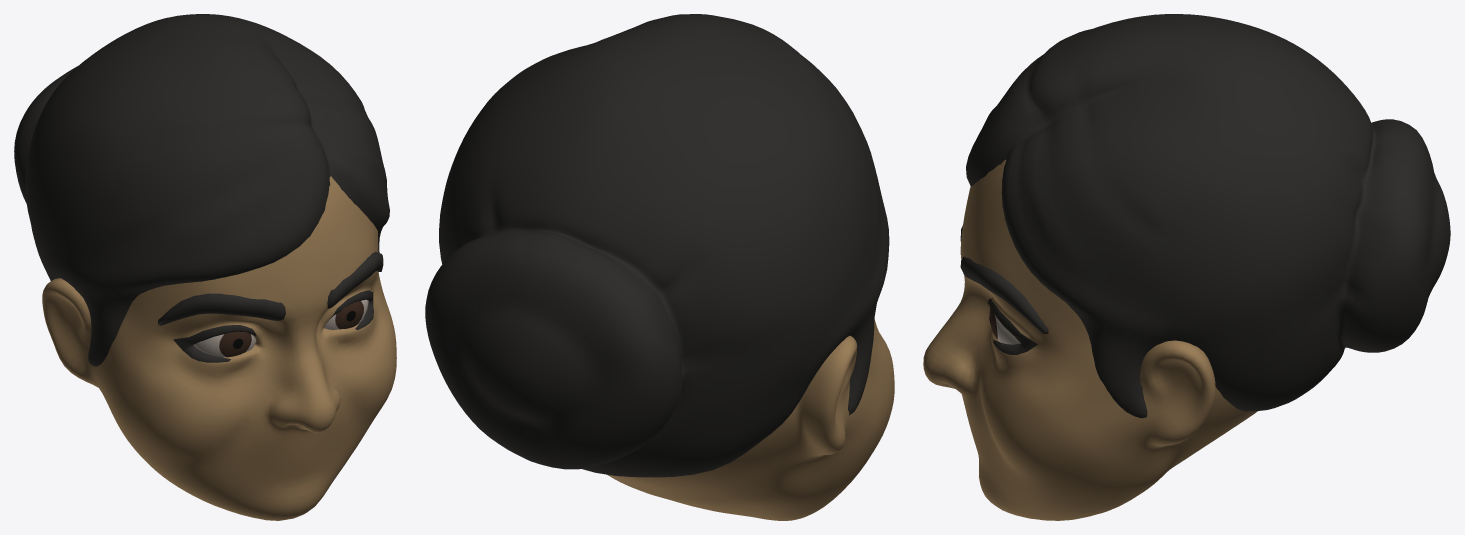
The model's file is head.fbx.
3 views of the same model, side by side, from view 1: azimuth 30°, elevation 25°; view 2: azimuth 150°, elevation 25°; view 3: azimuth 270°, elevation 25° (orthographic). The views are drawn at different scales.
Visible parts, largest first — view 1: Head; view 2: Head; view 3: Head.
Boxes of the visible parts, bbox=[...] form: Head: bbox=[14, 14, 396, 520]; Head: bbox=[425, 14, 894, 520]; Head: bbox=[923, 14, 1450, 520].
Size of the model in its own units: 31.01 by 40.61 by 40.71.
1 material, 1 textured.
